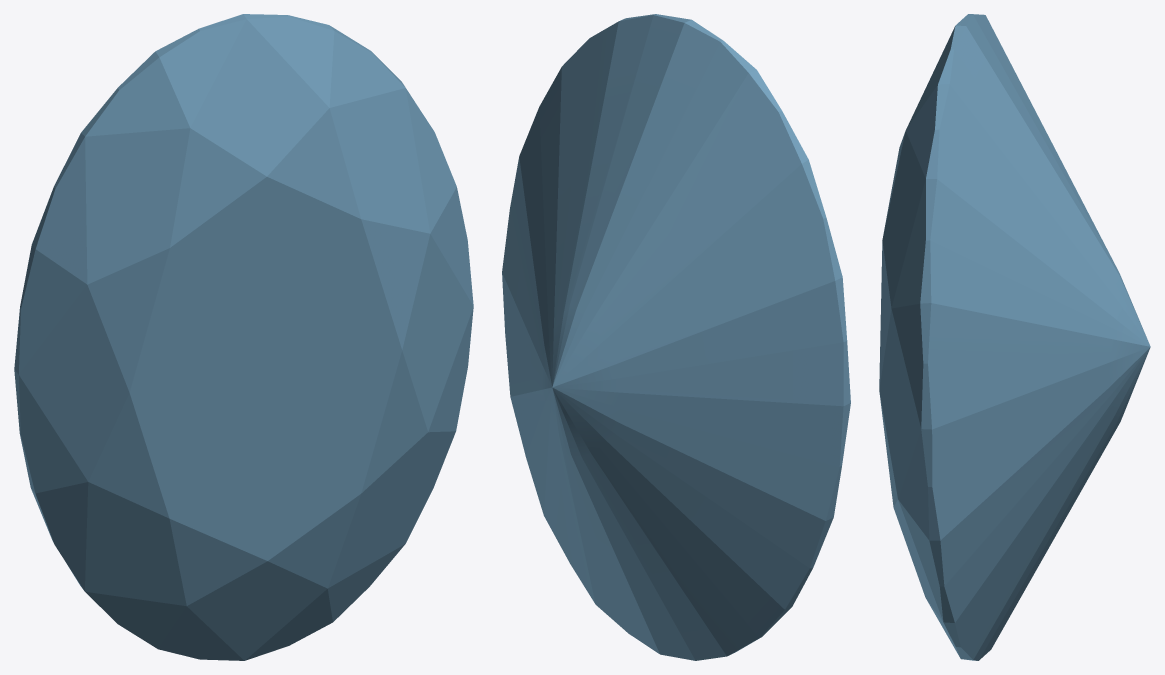
Rendered from TL1_8shapes_Oval_Classic_Stone.001 3.glb.
3 renders of one model, left to right at view 1: azimuth 30°, elevation 25°; view 2: azimuth 150°, elevation 25°; view 3: azimuth 270°, elevation 25°, orthographic. The views are drawn at different scales.
Parts seen in each view (by area): view 1: TL1_8shapes_Oval_Classic_Stone.001; view 2: TL1_8shapes_Oval_Classic_Stone.001; view 3: TL1_8shapes_Oval_Classic_Stone.001.
Part boxes in pixels (x1,y1,x2,y2): TL1_8shapes_Oval_Classic_Stone.001: (14,14,473,660); TL1_8shapes_Oval_Classic_Stone.001: (502,14,850,660); TL1_8shapes_Oval_Classic_Stone.001: (879,14,1150,660).
Bounding box in the file's own units: 0.481 × 0.7372 × 0.2933.
